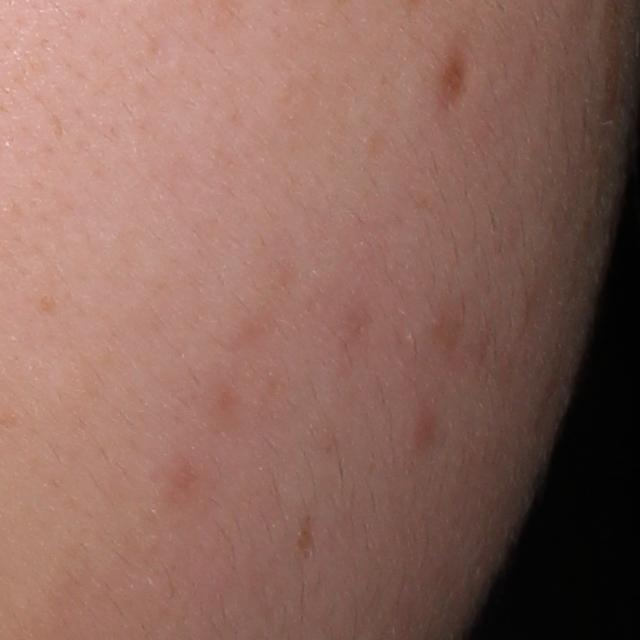papule: (406, 408, 435, 451)
